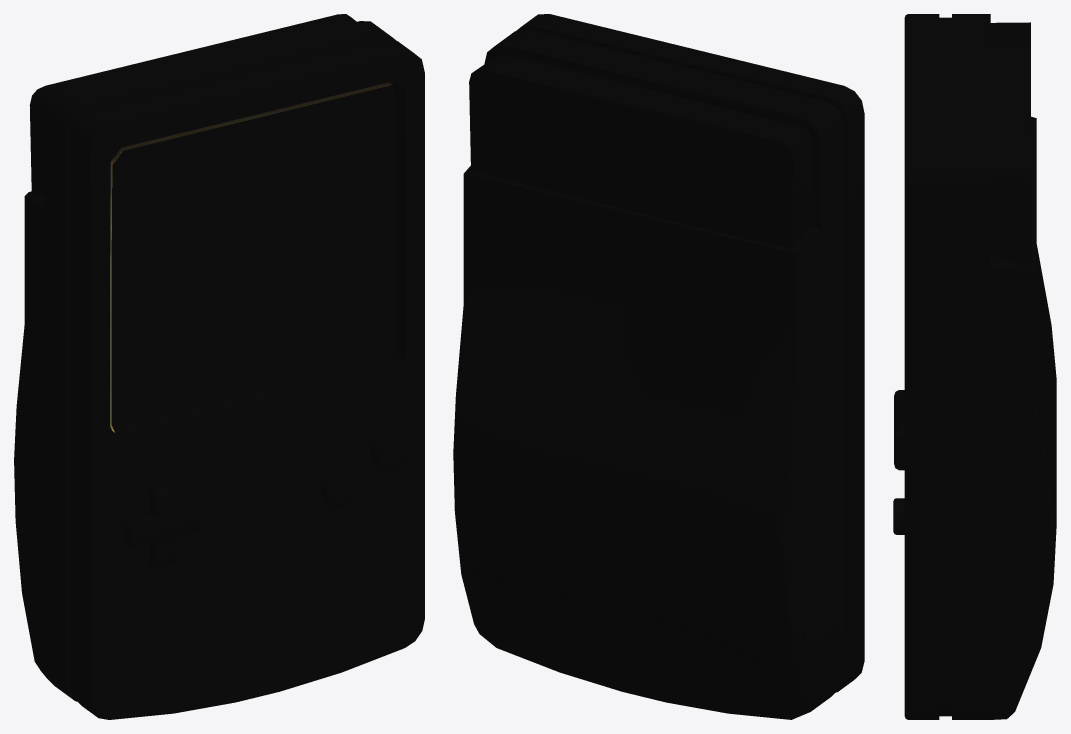
Rendered from gameboy.glb.
3 renders of one model, left to right at view 1: azimuth 30°, elevation 25°; view 2: azimuth 150°, elevation 25°; view 3: azimuth 270°, elevation 25°, orthographic. The views are drawn at different scales.
Visible parts, largest first — view 1: Object_2; view 2: Object_2; view 3: Object_2.
Boxes of the visible parts, x1,y1,x2,y2 form: Object_2: [14, 14, 424, 719]; Object_2: [453, 14, 864, 719]; Object_2: [893, 14, 1056, 719].
Size of the model in its own units: 10.15 by 17.55 by 4.48.
Materials: 1 (1 with a texture image).
